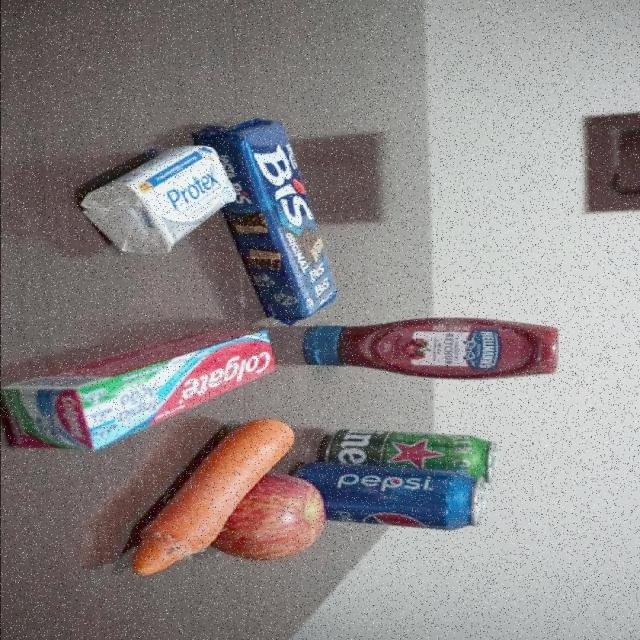Apple: (259, 478, 325, 563)
BeerCan: (326, 432, 496, 468)
Carrot: (104, 453, 264, 582)
Ketchup: (306, 320, 560, 376)
Soap: (90, 142, 235, 257)
SodaCan: (325, 471, 487, 528)
Toothpaste: (0, 330, 276, 449)
